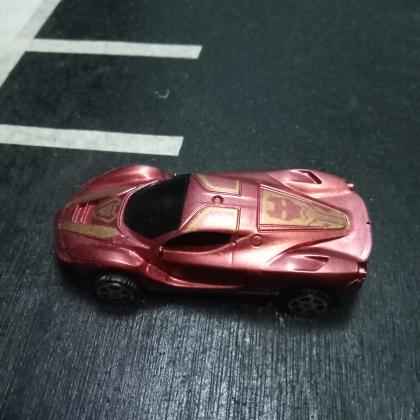Car: (50, 162, 374, 314)
